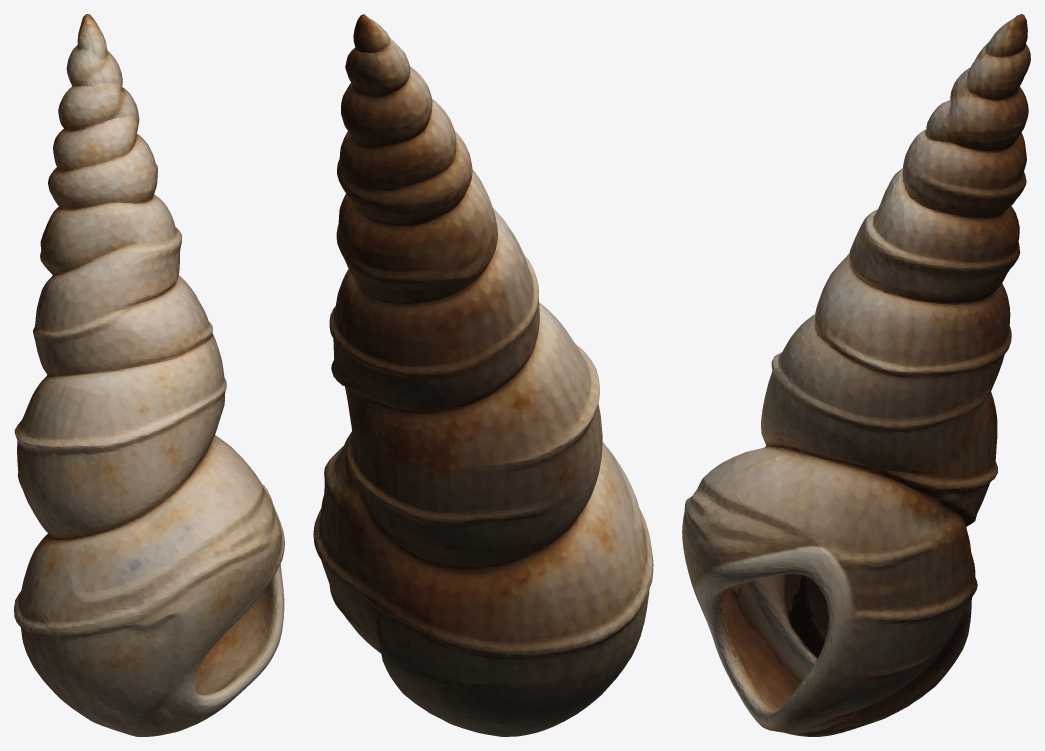
3 renders of one model, left to right at view 1: azimuth 30°, elevation 25°; view 2: azimuth 150°, elevation 25°; view 3: azimuth 270°, elevation 25°, orthographic. The views are drawn at different scales.
Parts seen in each view (by area): view 1: world; view 2: world; view 3: world.
Boxes of the visible parts, x1,y1,x2,y2 form: world: (14,14,284,736); world: (313,14,653,736); world: (682,14,1030,736).
Bounding box in the file's own units: 0.3935 × 0.9737 × 0.4195.
Materials: 1 (1 with a texture image).
